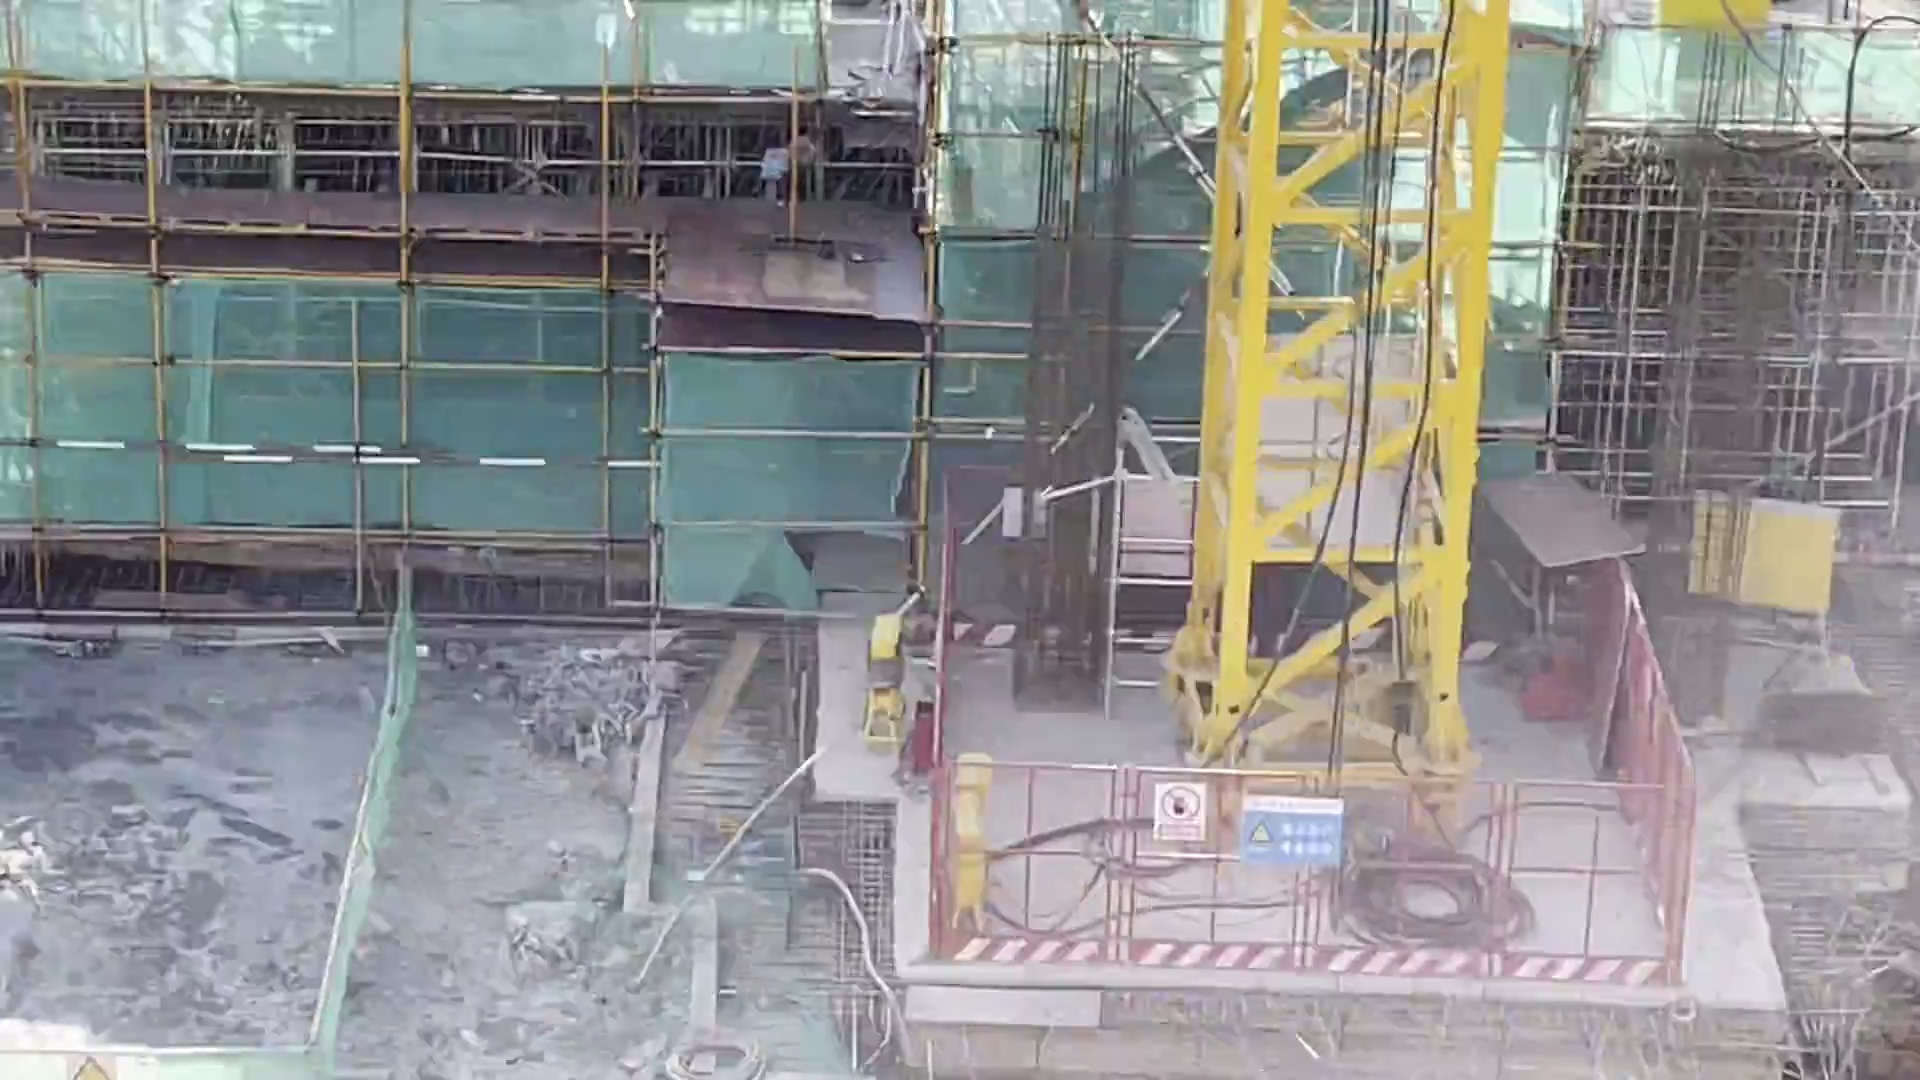ebox: (1687, 484, 1846, 669), (947, 745, 990, 930), (865, 615, 905, 750)
slogan: (1238, 793, 1342, 872), (1154, 782, 1204, 841)
